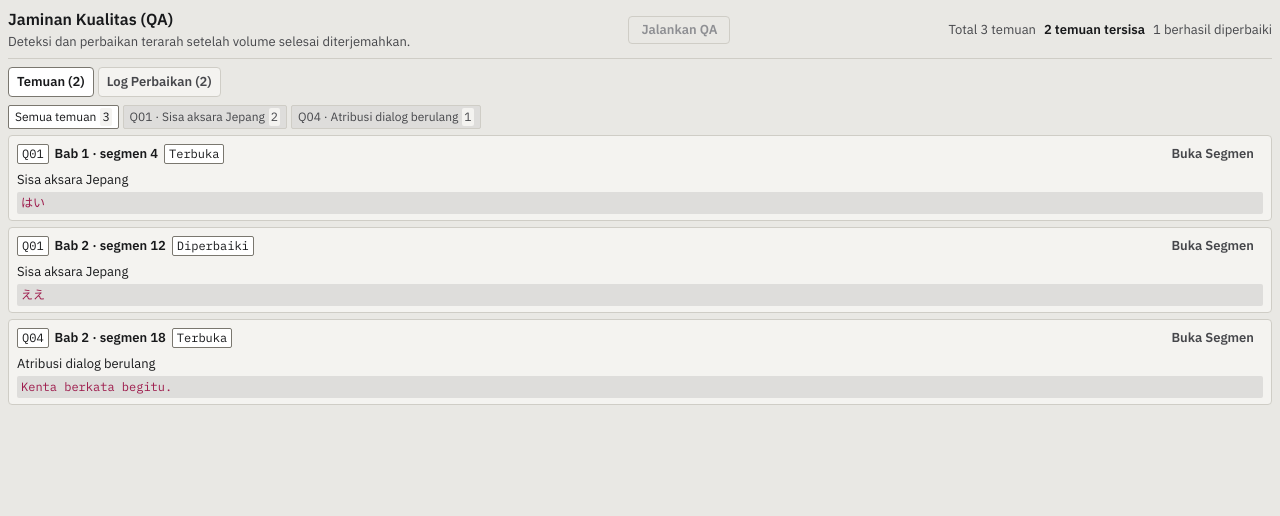
it: QaTab Component › renders fix log with FixDiff items and switches sub-tabs
// Click Log Perbaikan tab
Step 1. Click the tab "Log Perbaikan (2)" → point(159, 82), box x1=98 y1=67 x2=221 y2=97
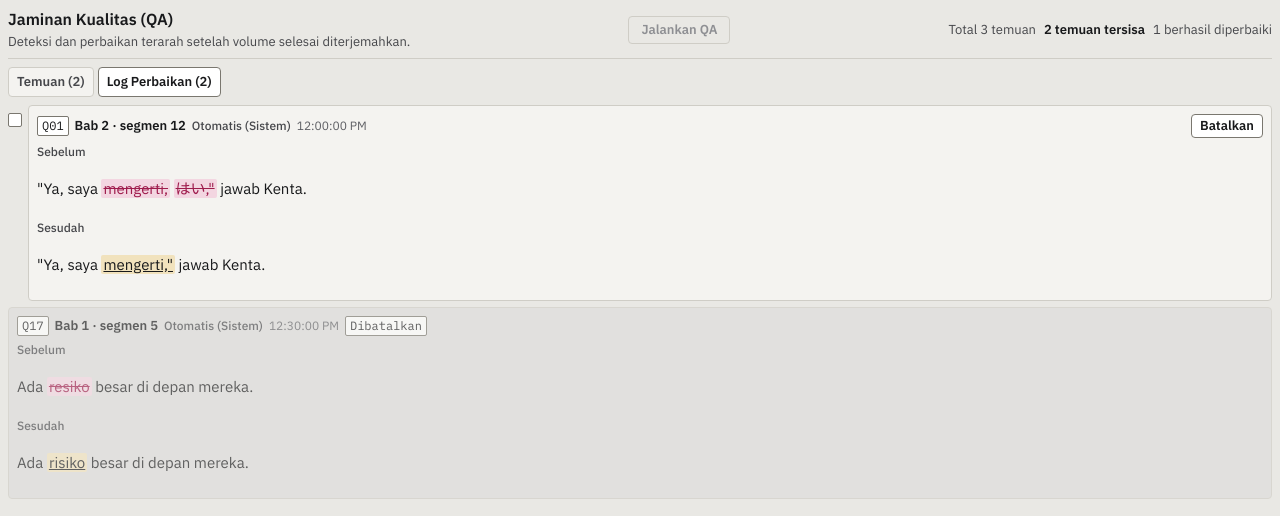
Now the text "Q17" is shown, box x1=17 y1=316 x2=49 y2=336
Now the text "risiko" is shown, box x1=47 y1=453 x2=87 y2=472
